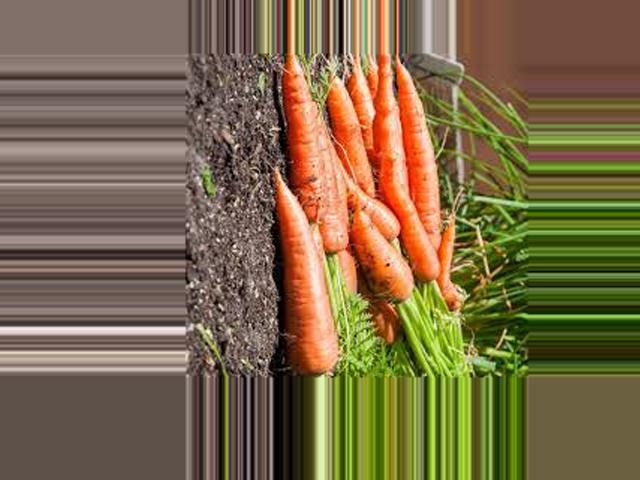carrot: (377, 53, 437, 286)
